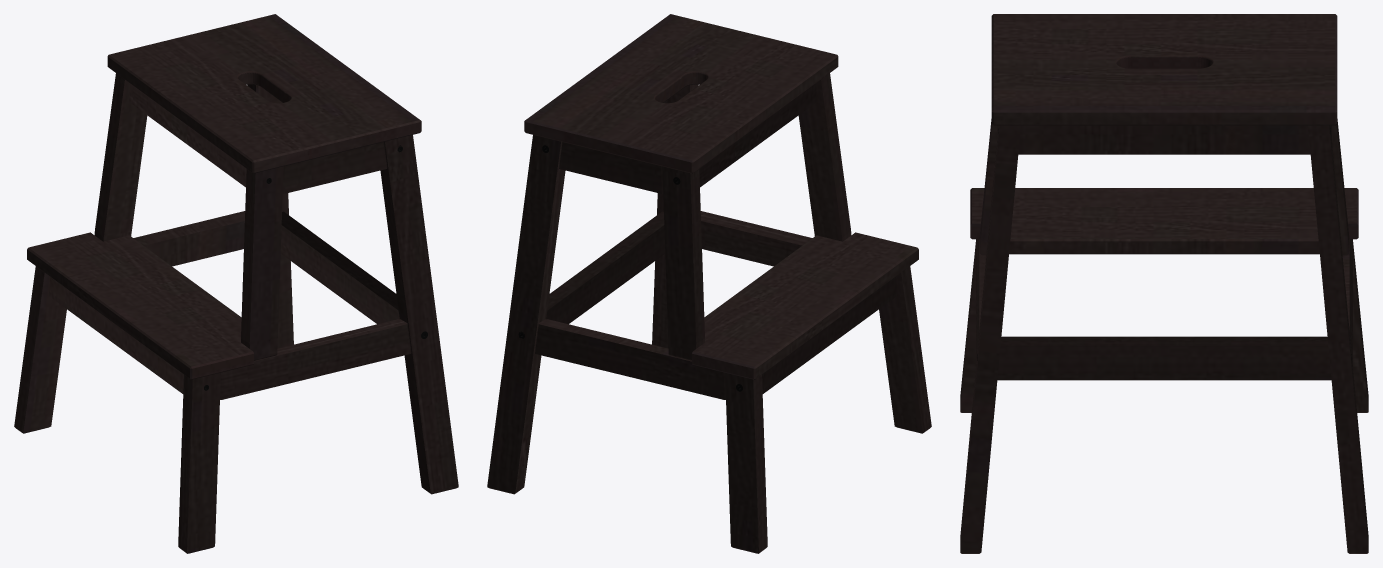
Rendered from BEKVAM_30178884.glb.
The picture shows the model from 3 angles, left to right: view 1: azimuth 30°, elevation 25°; view 2: azimuth 150°, elevation 25°; view 3: azimuth 270°, elevation 25°; orthographic projection. The views are drawn at different scales.
Parts seen in each view (by area): view 1: LEFT SIDE ASSEMBLY_73129; view 2: LEFT SIDE ASSEMBLY_73129; view 3: LEFT SIDE ASSEMBLY_73129.
Boxes of the visible parts, x1,y1,x2,y2 form: LEFT SIDE ASSEMBLY_73129: (14,14,458,553); LEFT SIDE ASSEMBLY_73129: (487,14,931,553); LEFT SIDE ASSEMBLY_73129: (960,14,1368,553).
Size of the model in its own units: 0.3885 by 0.4974 by 0.4277.
5 materials, 4 textured.
